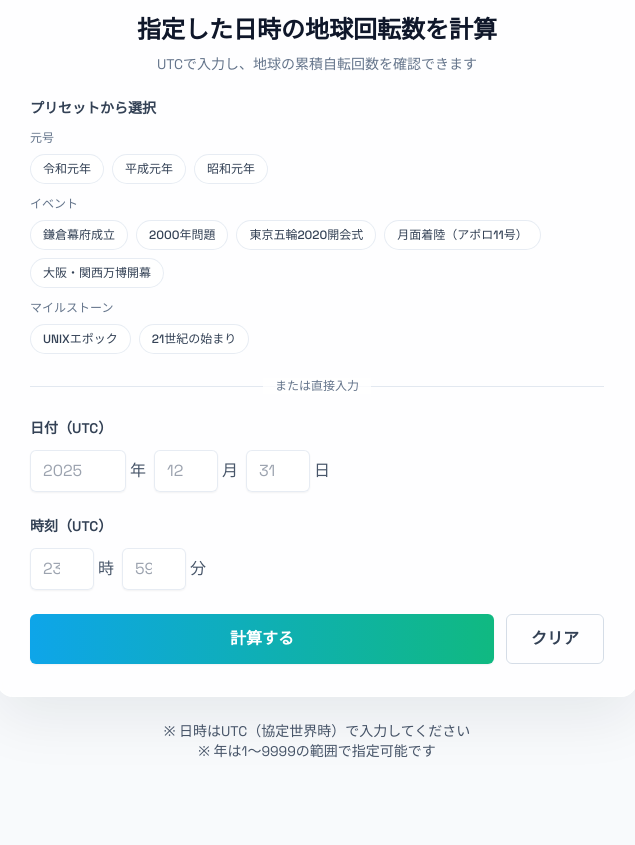
Test: DateTimeInput › プリセット機能 › プリセット選択後にエラーがクリアされること
The image size is (635, 845).
// エラーを発生させる
Click the button "計算する": (262, 639) [30, 614, 494, 664]
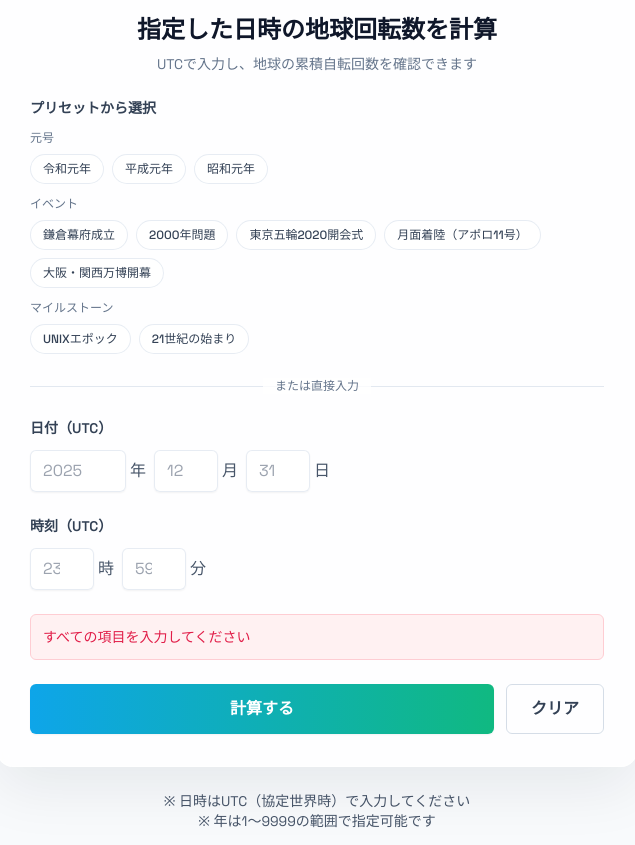
Check: the text "すべての項目を入力してください" is shown, box [43, 628, 251, 646]
// プリセットを選択
Click the button with aria-label "令和元年を選択": (67, 169) [30, 154, 104, 184]
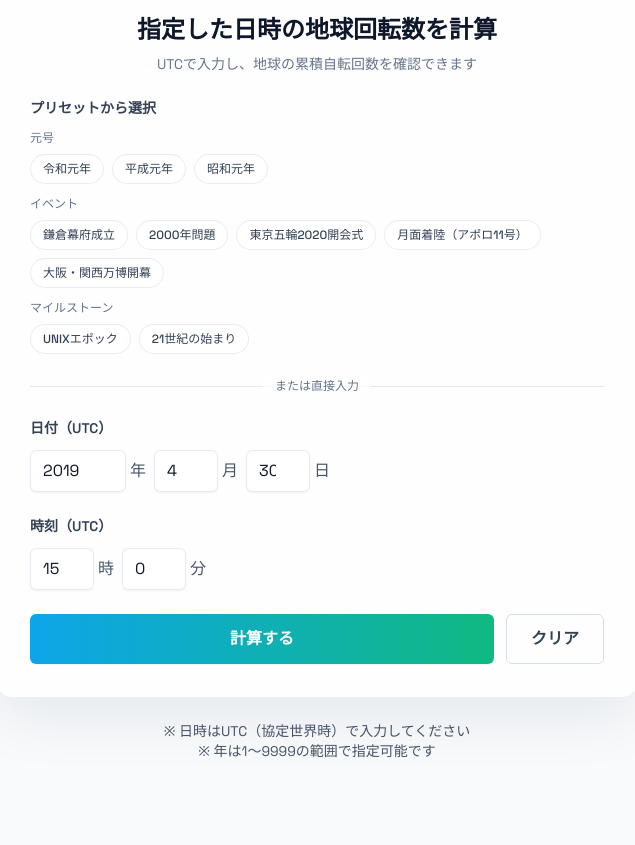
Check: the text "すべての項目を入力してください" is gone
